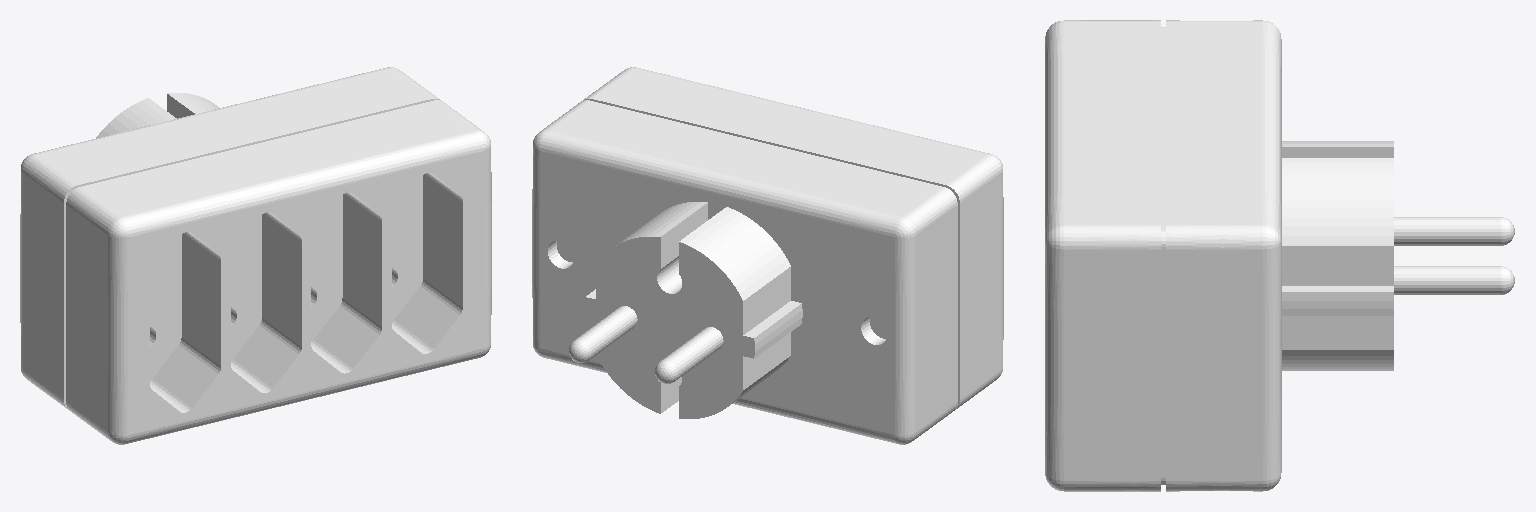
URDF robot description (obj_000020):
<?xml version="1.0" ?>
<robot name="obj_000020">
   <link name="base_link">
      <visual>
         <geometry>
            <mesh filename="package://agimus_demo_07_tiago_pro_pick_and_drop/urdf/obj_20.obj" scale="1 1 1"/>
         </geometry>
         <material name="tless_white">
            <color rgba="1.0 1.0 1.0 1.0"/>
         </material>
      </visual>
      <collision>
         <geometry>
            <mesh filename="package://agimus_demo_07_tiago_pro_pick_and_drop/urdf/obj_20.obj" scale="1 1 1"/>
         </geometry>
      </collision>
      <inertial>
         <origin rpy="0 0 0" xyz="0.0 0.0 0.0"/>
         <mass value="0.1"/>
         <inertia ixx="1" ixy="0" ixz="0" iyy="1" iyz="0" izz="1"/>
      </inertial>
   </link>
</robot>

--- Facts derived from the render (not from the file) ---
3 views of the same robot in one strip: view 1: azimuth 30°, elevation 25°; view 2: azimuth 150°, elevation 25°; view 3: azimuth 270°, elevation 25° (orthographic).
Robot: obj_000020 — 1 links, 0 joints (none); root link base_link; default pose: all joints at 0.
Links seen in each view (by area): view 1: base_link; view 2: base_link; view 3: base_link.
Link boxes in pixels (<box>): base_link: <box>20,67,491,444</box>; base_link: <box>532,67,1003,444</box>; base_link: <box>1045,20,1514,491</box>.
Size in the robot's own frame: 0.083 by 0.0755 by 0.047 metres.
Meshes: 1 distinct files referenced, 1 mesh visuals loaded (1 OBJ).
